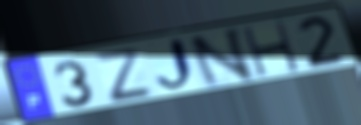2: (295, 14, 350, 71)
3: (52, 58, 95, 109)
H: (240, 19, 303, 80)
J: (154, 35, 200, 96)
N: (186, 25, 258, 91)
Z: (91, 47, 156, 105)
